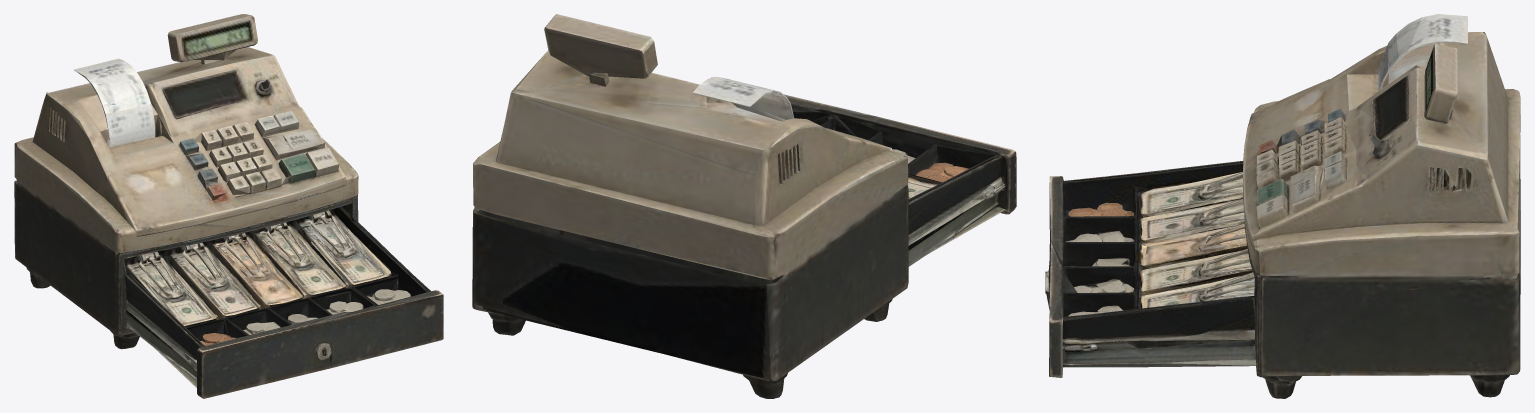
The model's file is register.glb.
3 views of the same model, side by side, from view 1: azimuth 30°, elevation 25°; view 2: azimuth 150°, elevation 25°; view 3: azimuth 270°, elevation 25° (orthographic). The views are drawn at different scales.
Visible parts, largest first — view 1: Mesh_0; view 2: Mesh_0; view 3: Mesh_0.
Part boxes in pixels (x1,y1,x2,y2): Mesh_0: (14, 14, 443, 398); Mesh_0: (472, 14, 1016, 398); Mesh_0: (1045, 14, 1520, 398).
Bounding box in the file's own units: 1.38 × 1.3 × 1.9.
1 material, 1 textured.
